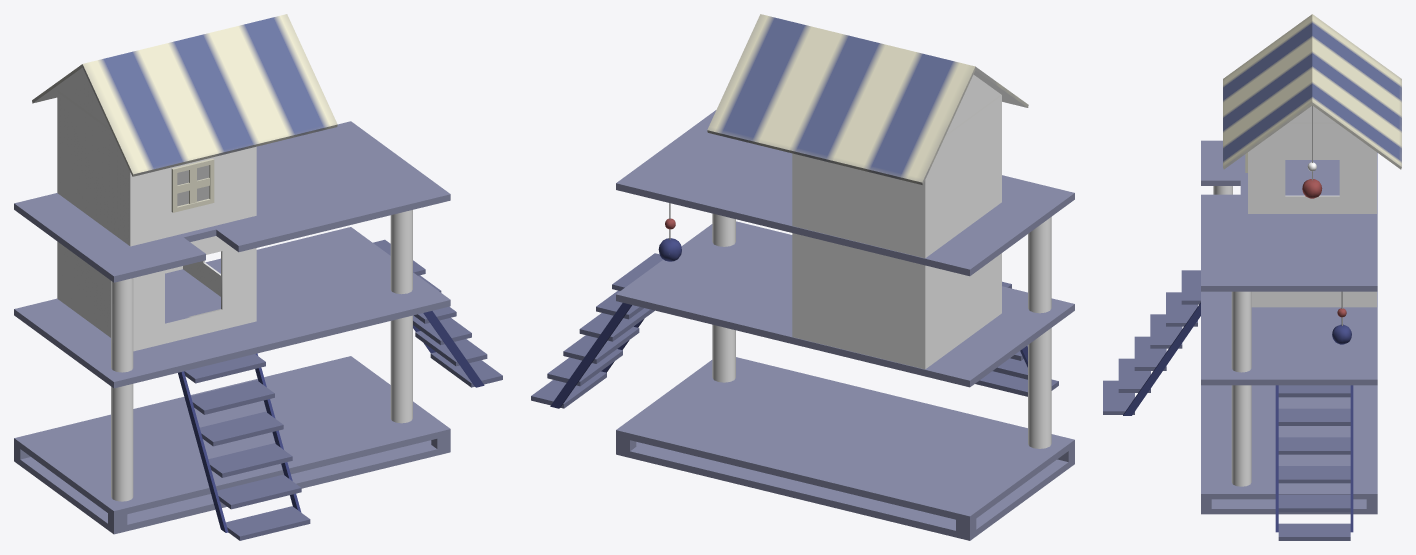
The model's file is cat_tower2.fbx.
The picture shows the model from 3 angles, left to right: view 1: azimuth 30°, elevation 25°; view 2: azimuth 150°, elevation 25°; view 3: azimuth 270°, elevation 25°; orthographic projection. The views are drawn at different scales.
Visible parts, largest first — view 1: Cube.036; view 2: Cube.036; view 3: Cube.036.
Boxes of the visible parts, x1,y1,x2,y2 form: Cube.036: (14,14,502,540); Cube.036: (531,14,1074,540); Cube.036: (1103,14,1401,540).
Bounding box in the file's own units: 131 × 121 × 88.7.
1 material, 1 textured.
